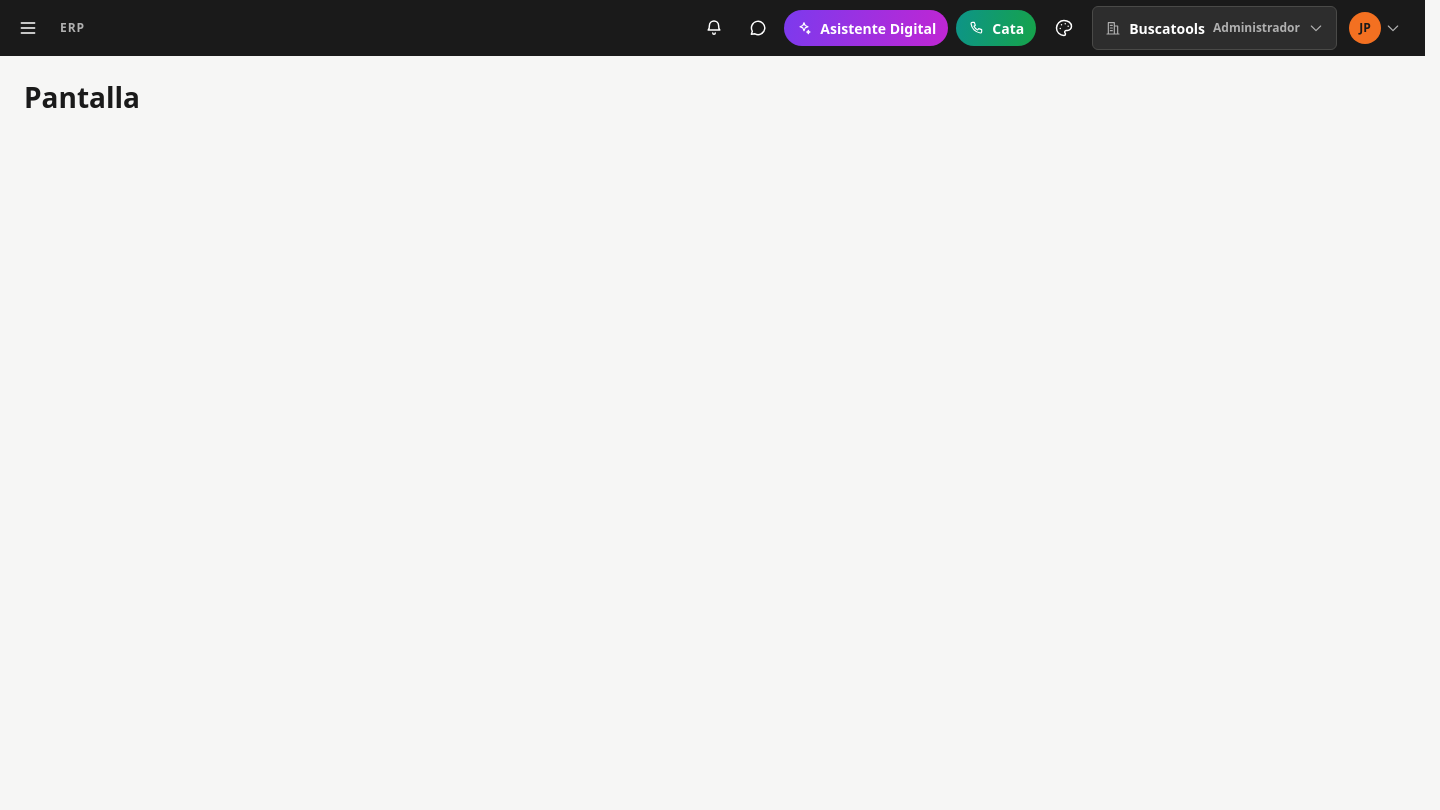
Test: mobile < 768: cajón › elegir un destino cierra el cajón
Click the button named "Abrir menú": [28, 28] box [8,8,48,48]
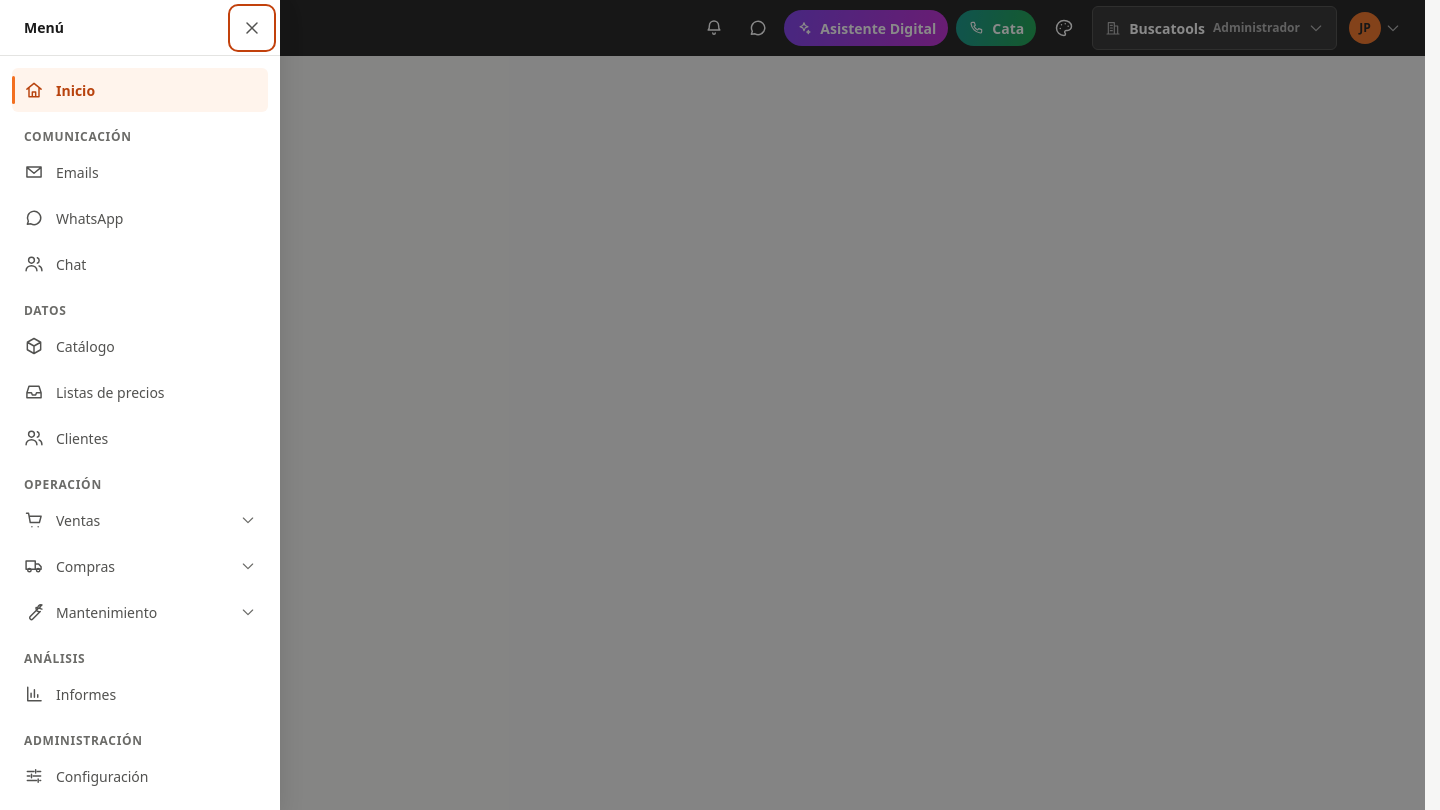
Click the link "Catálogo": [69, 346] box [24,336,115,356]
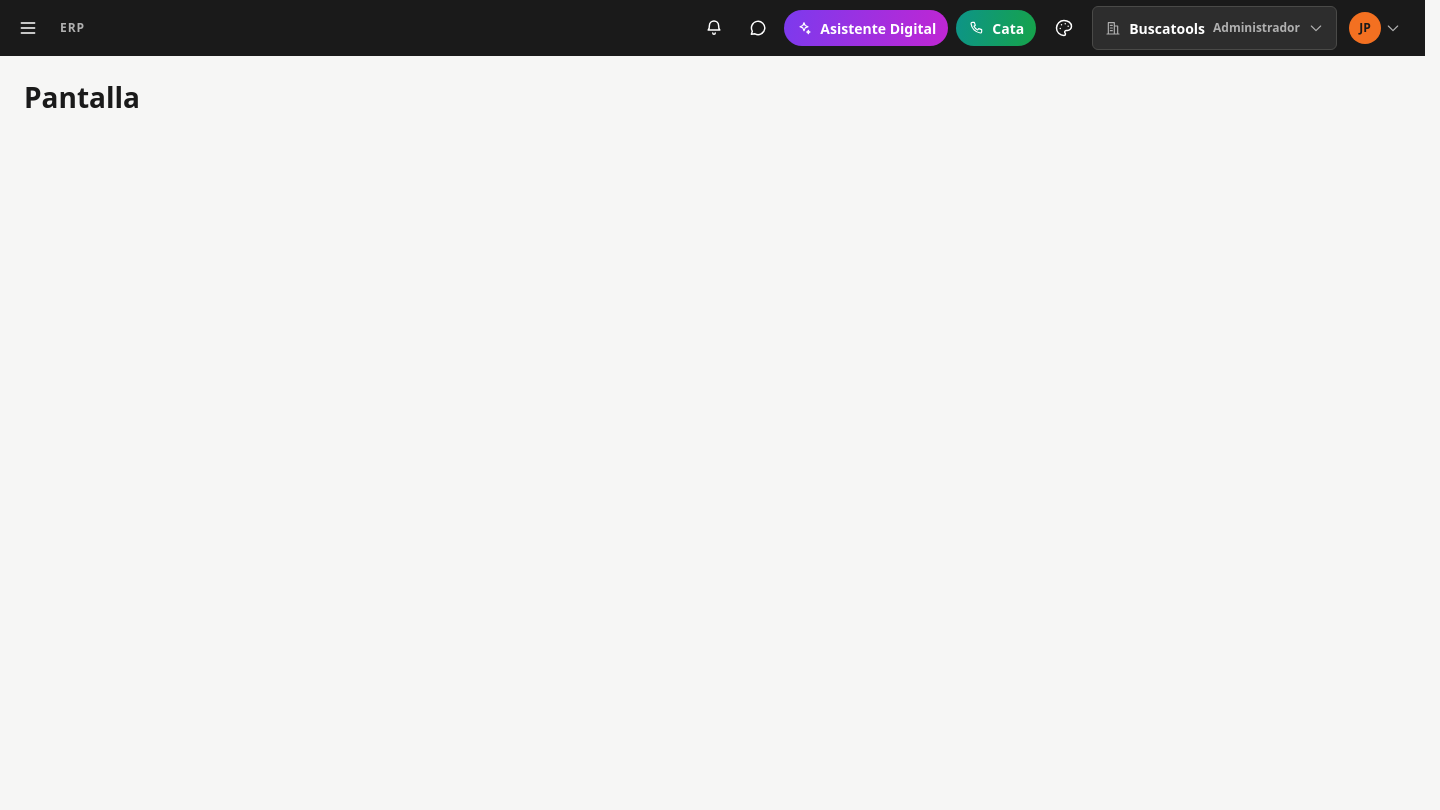
Expected: the heading "Pantalla" is shown, [24,78,140,116]
Expected: the dialog is gone
